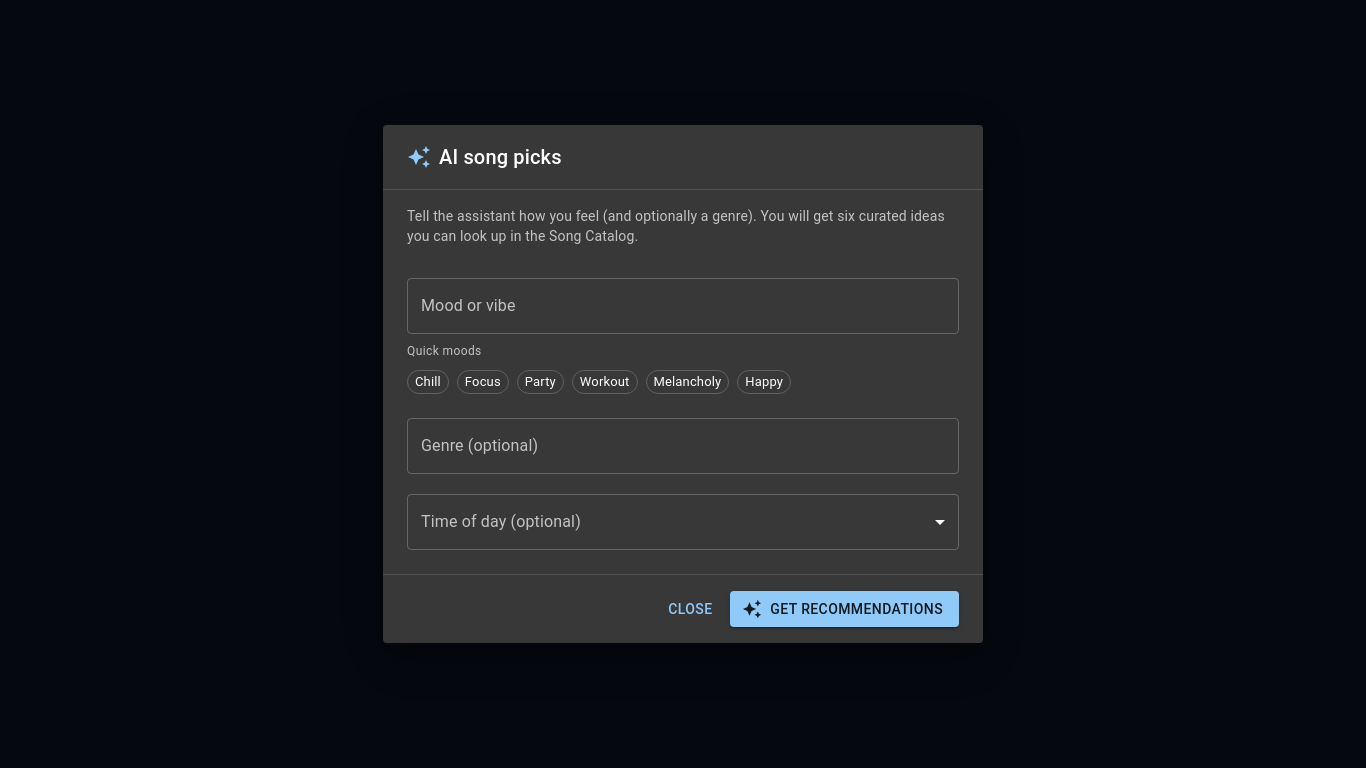
Test: AIRecommendationsDialog › sets the mood field when a chip is clicked
The width and height of the screenshot is (1366, 768).
Step 1. Click the button "Chill" → (428, 382), box [407,370,449,394]
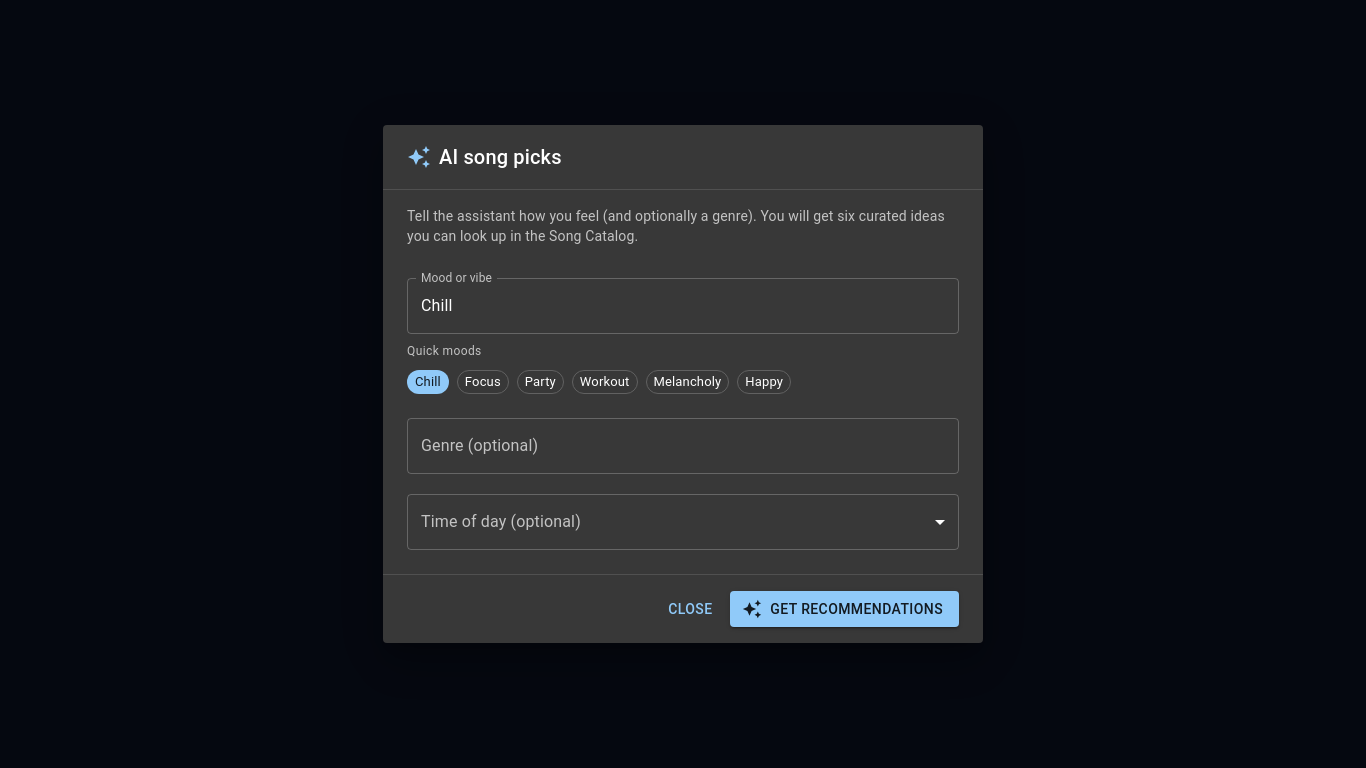
Check: the field labelled "Mood or vibe" holds "Chill", box [407,278,959,334]
